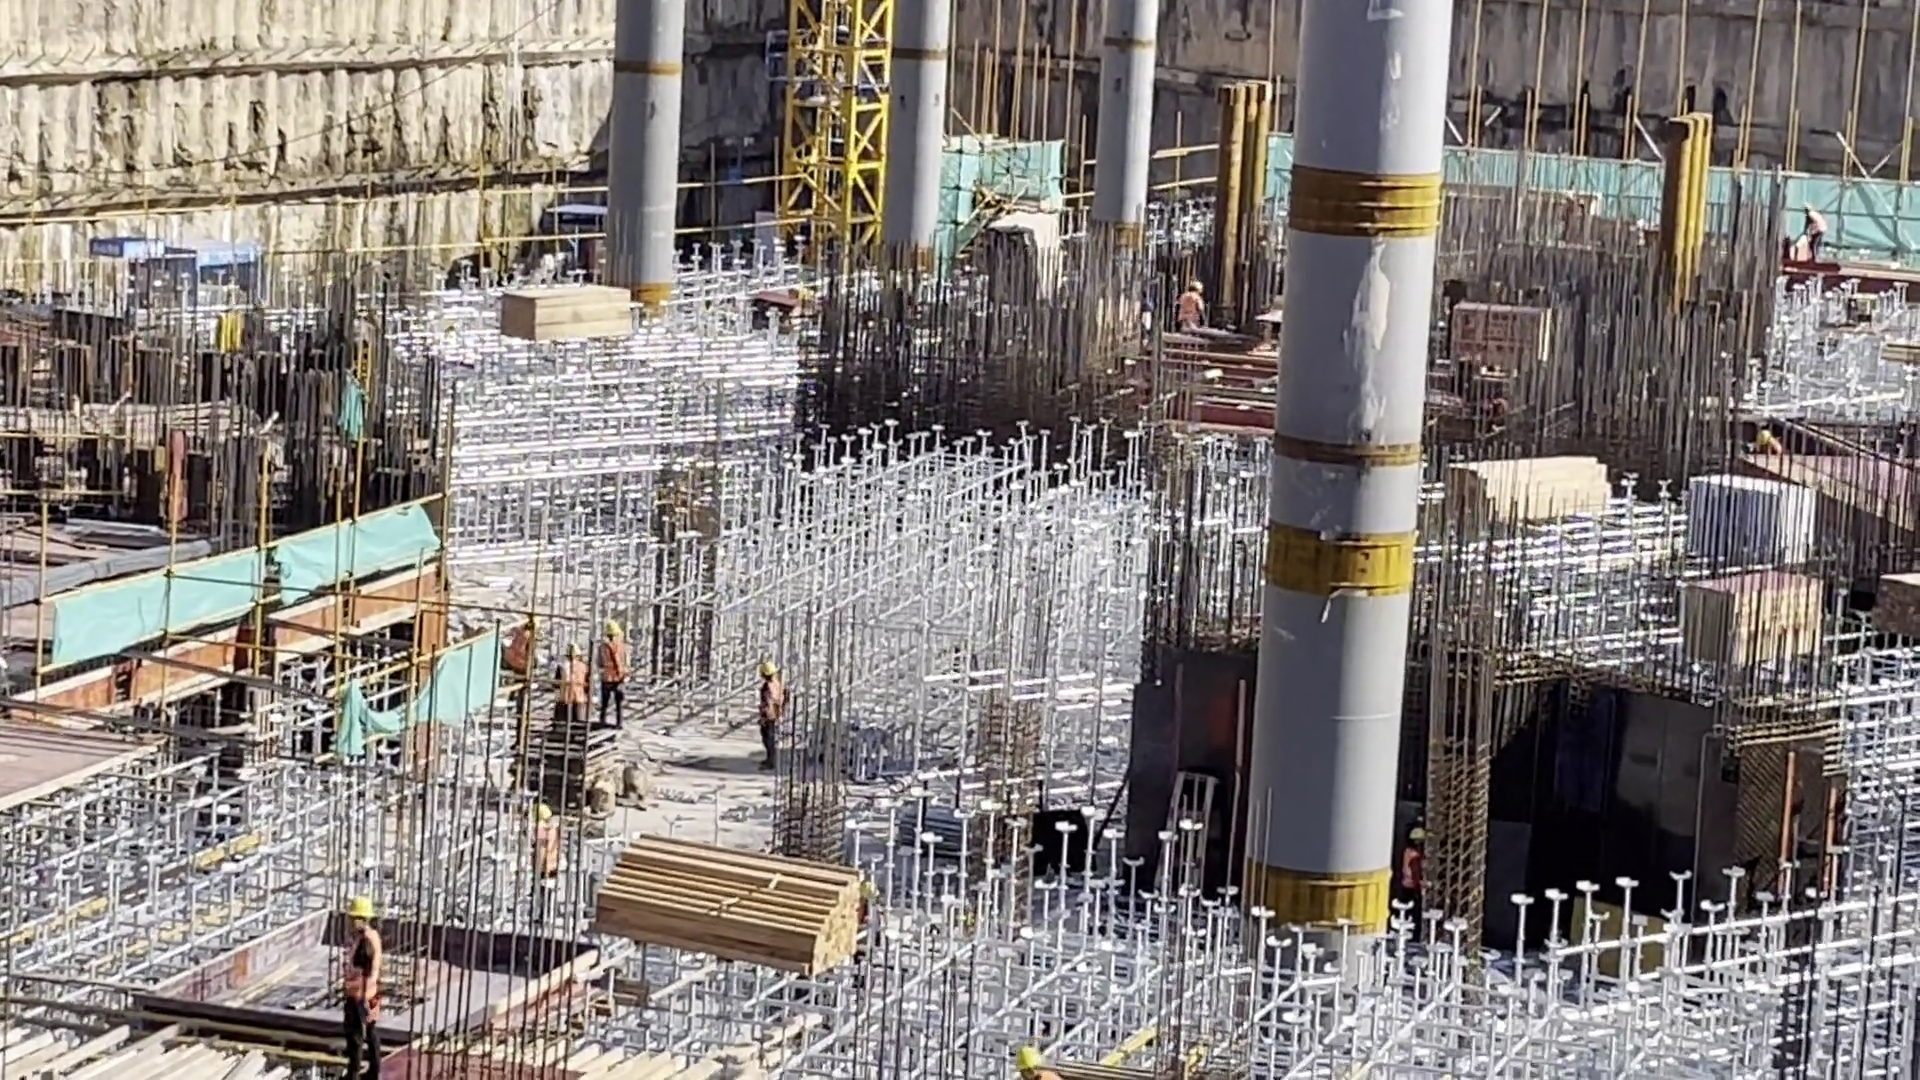board: (1679, 565, 1822, 667)
helmet: (345, 897, 377, 918), (1017, 1048, 1042, 1068), (1407, 826, 1426, 842), (759, 662, 782, 675), (600, 623, 623, 636), (563, 643, 582, 658), (1803, 203, 1811, 211)
person: (331, 893, 388, 1080), (755, 661, 786, 774), (599, 623, 630, 726), (531, 802, 560, 901), (555, 644, 591, 714), (502, 624, 542, 683), (1398, 827, 1425, 910), (1015, 1041, 1070, 1080), (1802, 202, 1824, 270), (1176, 281, 1206, 327), (1753, 428, 1782, 456)
vest: (343, 927, 383, 1003), (596, 646, 622, 690), (562, 661, 585, 707), (758, 680, 782, 721), (1401, 845, 1421, 887), (1807, 212, 1825, 238)
wood: (593, 831, 863, 976), (1448, 453, 1611, 529), (501, 284, 632, 342), (1875, 572, 1920, 637)
